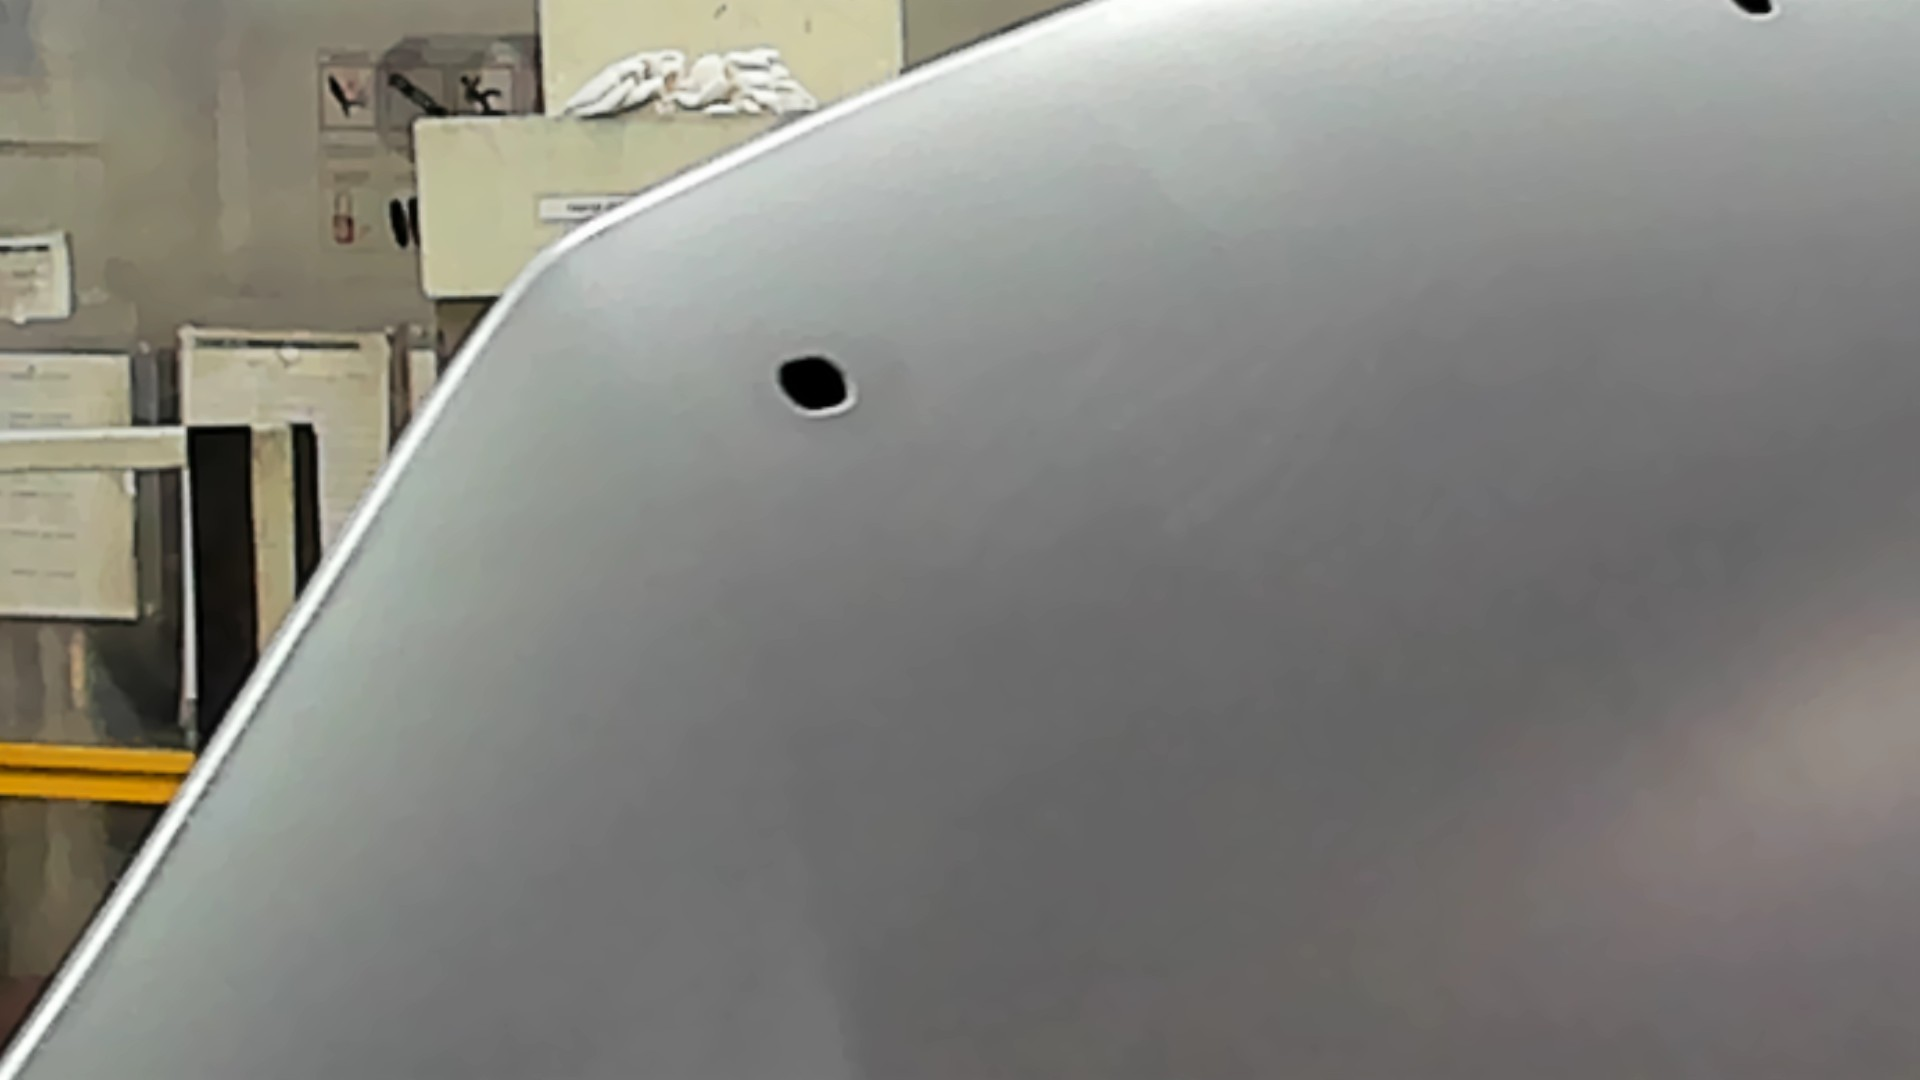amorfo: (764, 344, 865, 427)
capo: (963, 87, 1920, 1080)
